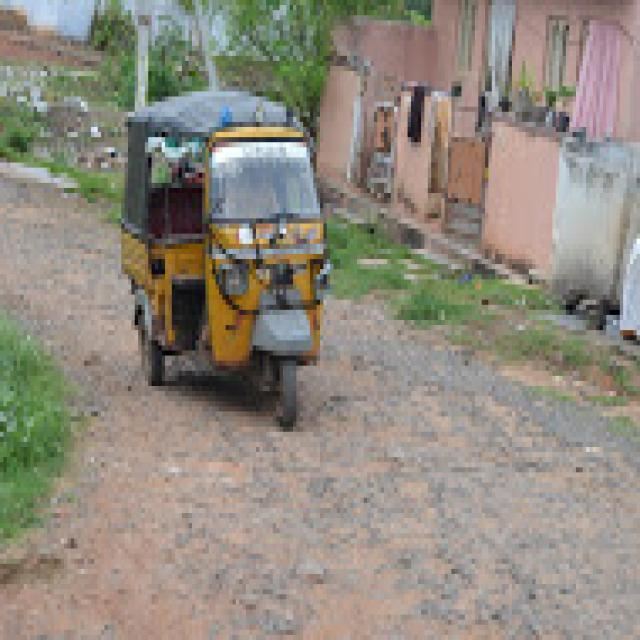auto_front: (119, 66, 333, 440)
